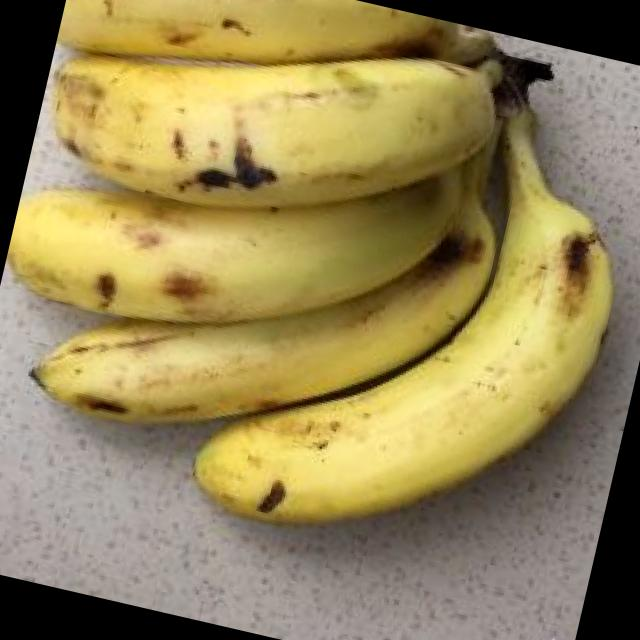banana: (106, 14, 640, 582)
